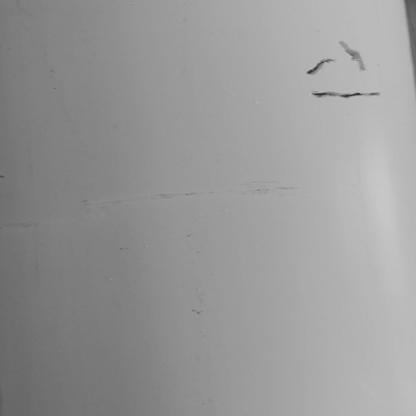fengxi: (309, 86, 387, 101), (337, 39, 366, 71), (307, 56, 332, 76)
